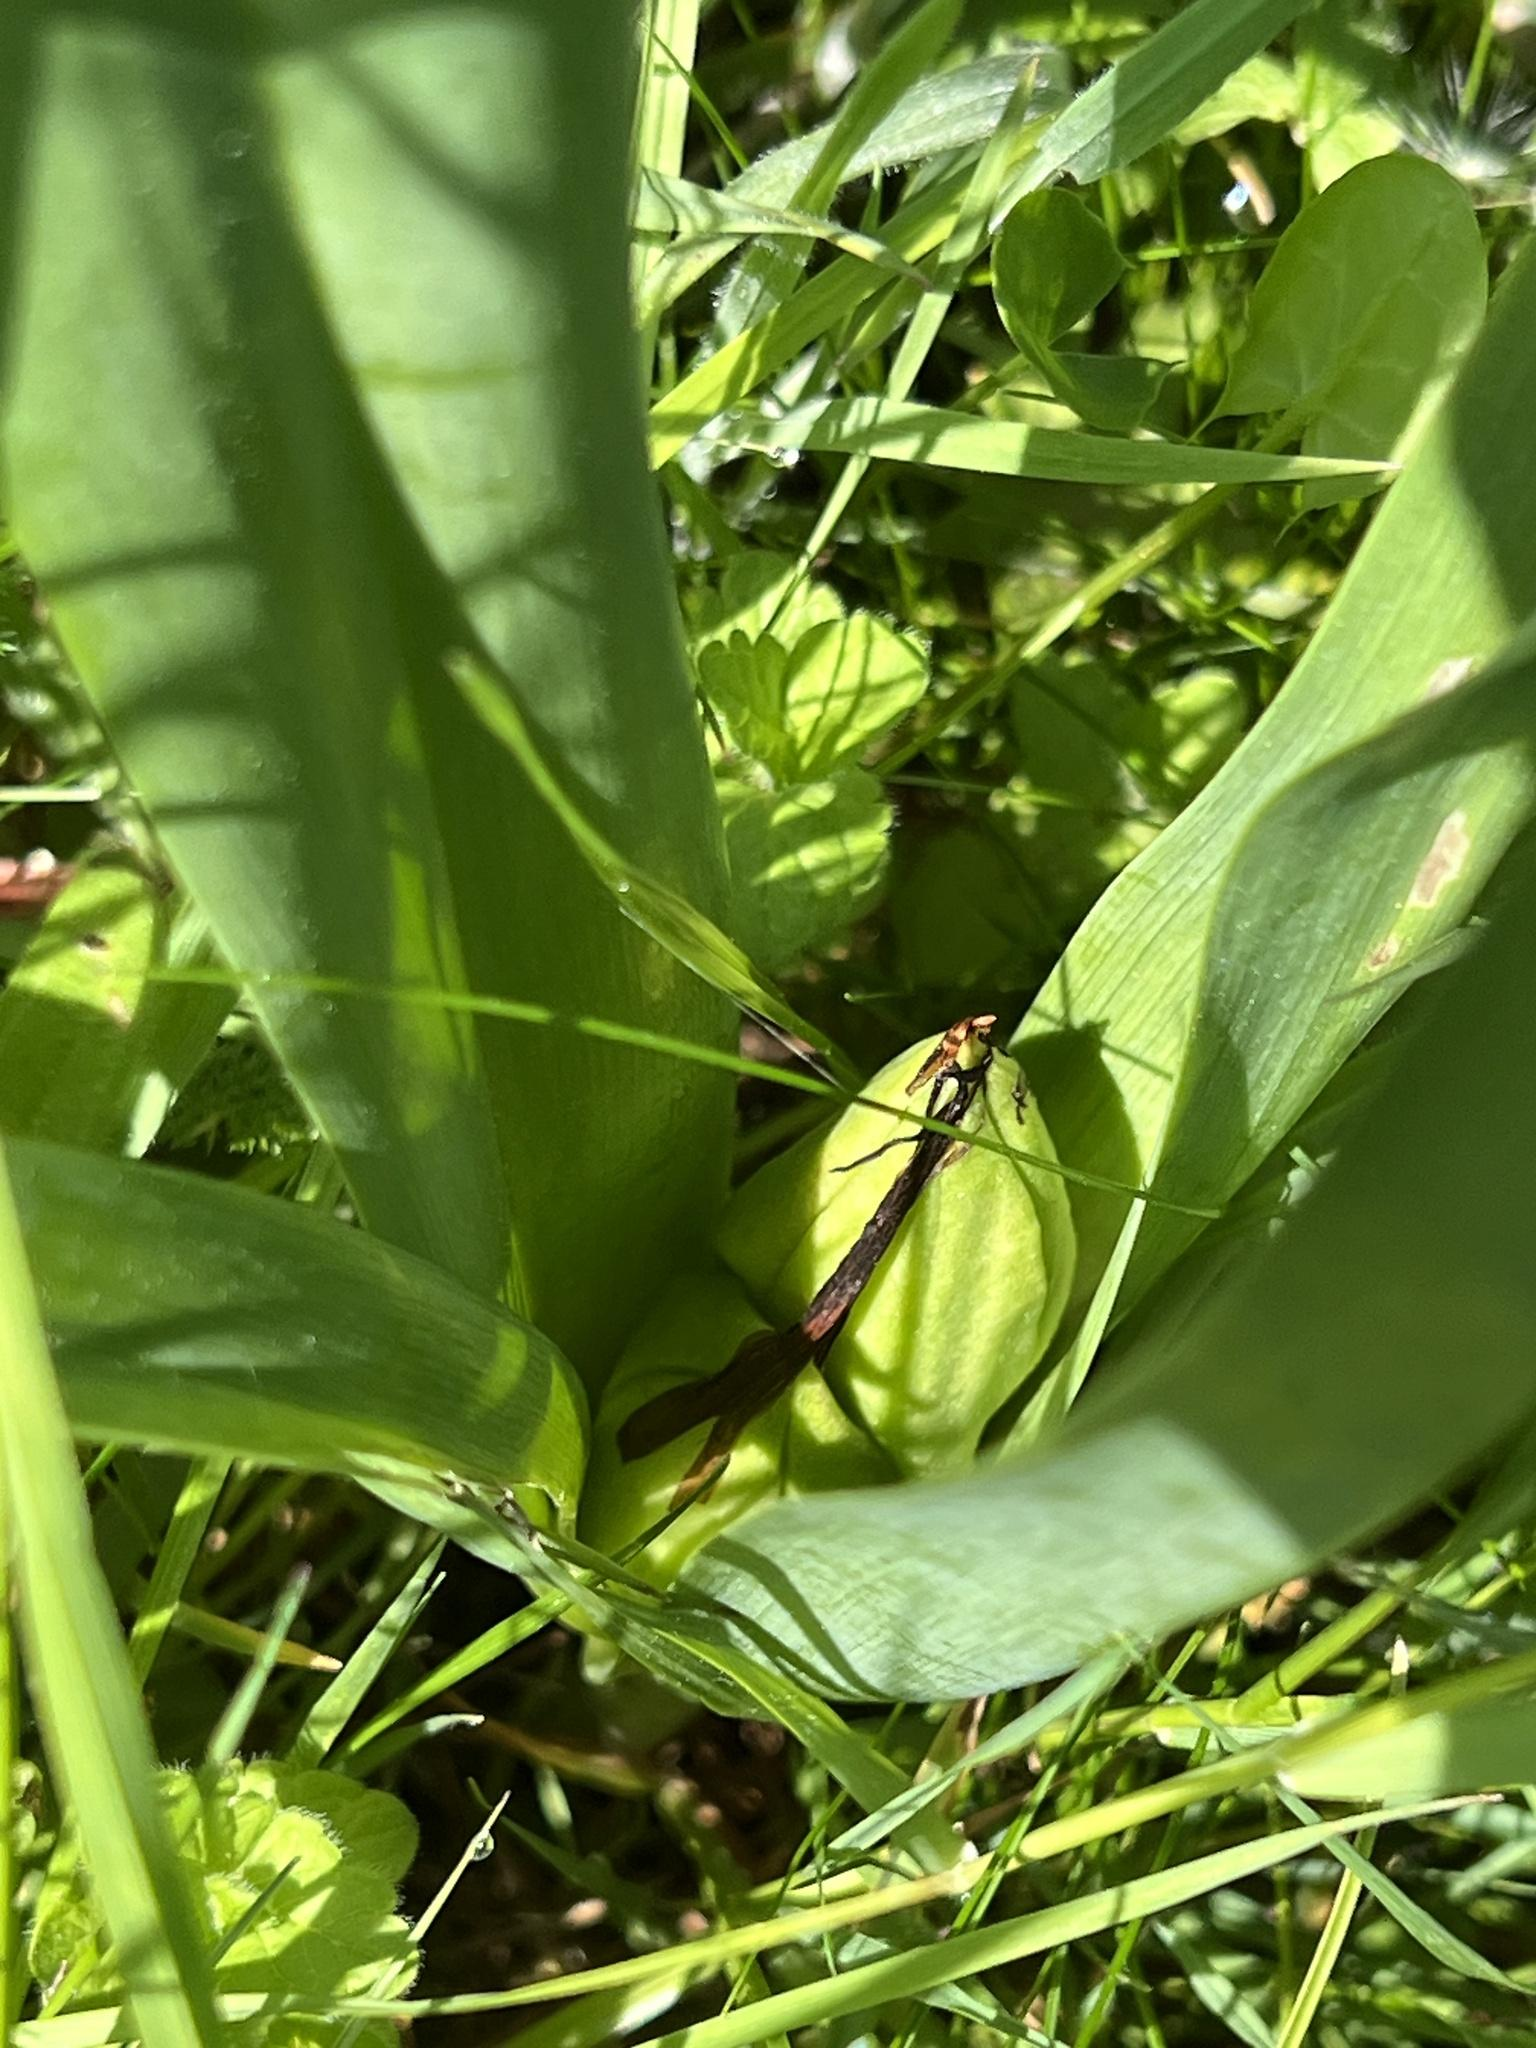Colchicum autumnale L: (6, 6, 1536, 1692)
